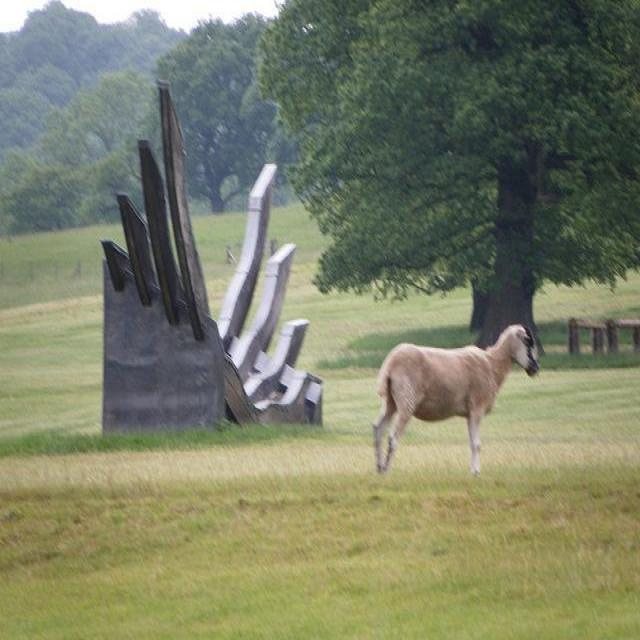Sheep: (371, 322, 541, 470)
